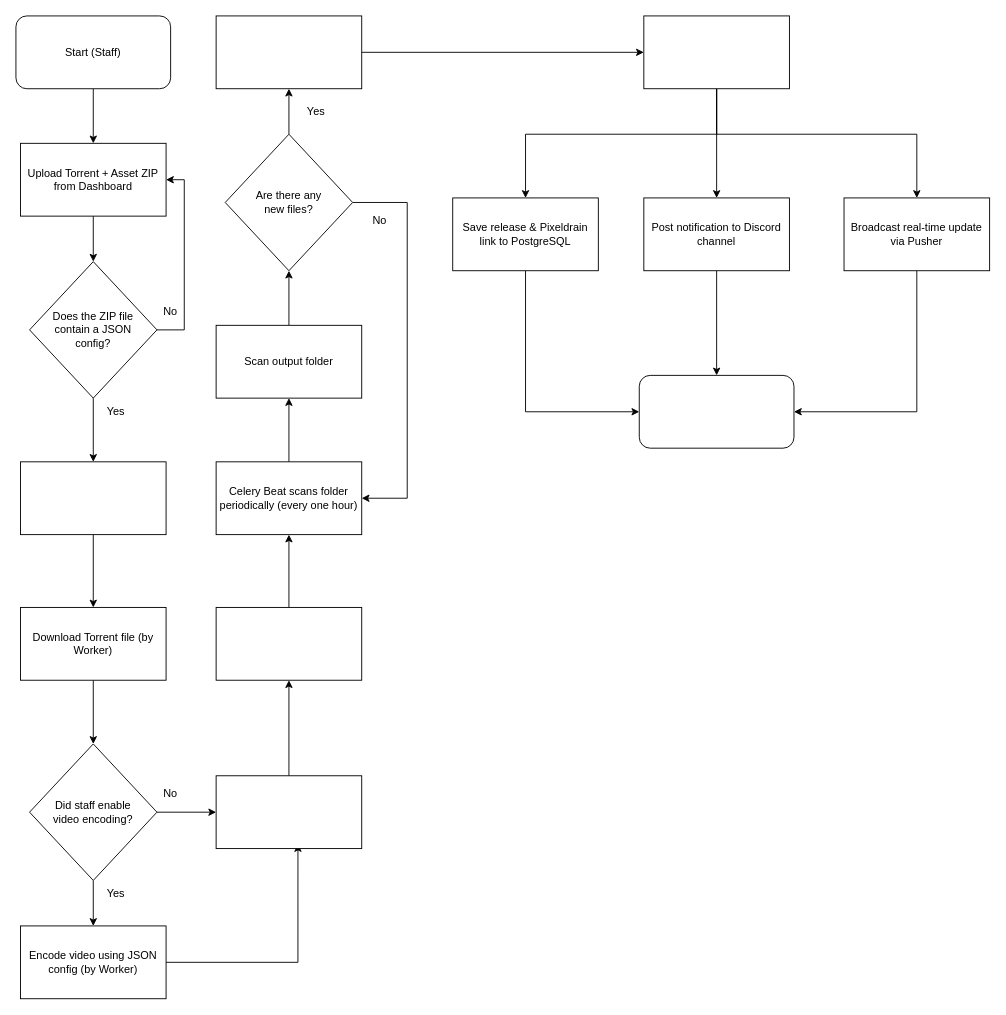
Image size: 1006x1015. Some labels were removed from this diagram. Each missing label, with the centre of its shape:
"End" goes at point (716, 411).
"Mux video with attachments (by Worker)" goes at point (288, 812).
"Push download task to Celery queue" goes at point (93, 498).
"Push upload tasks to Celery queue (one task per file)" goes at point (288, 52).
"Save processed video to output folder" goes at point (288, 643).
"Upload the file to Pixeldrain (by Worker)" goes at point (716, 52).
